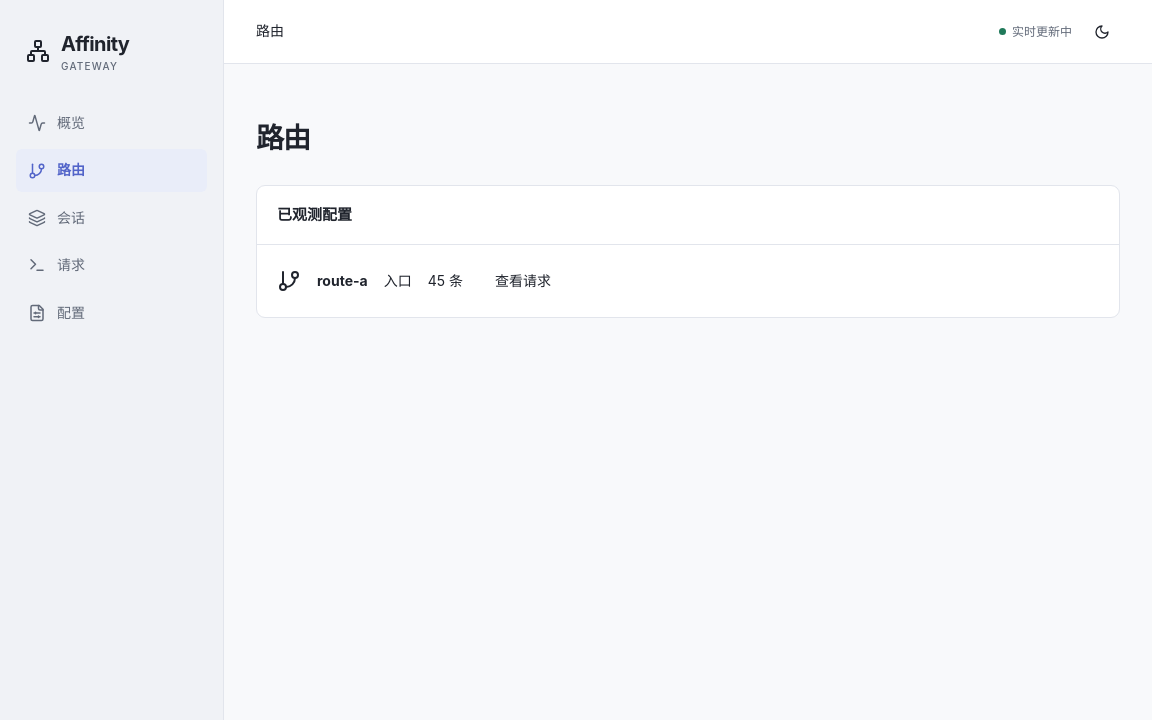
Test: supports direct page selection and changing page size in the request dialog
The image size is (1152, 720).
Click the button "查看请求" at (523, 281), box [479, 263, 567, 299]
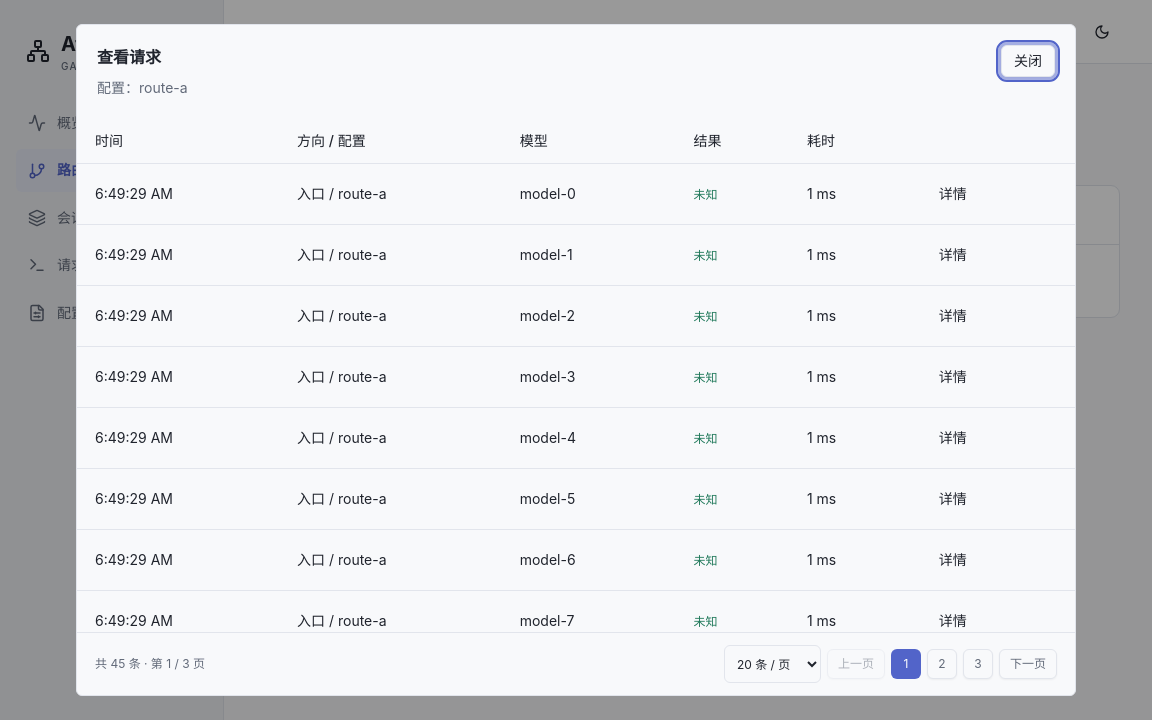
Click the button named "第 3 页" at (978, 664), box [963, 649, 993, 679]
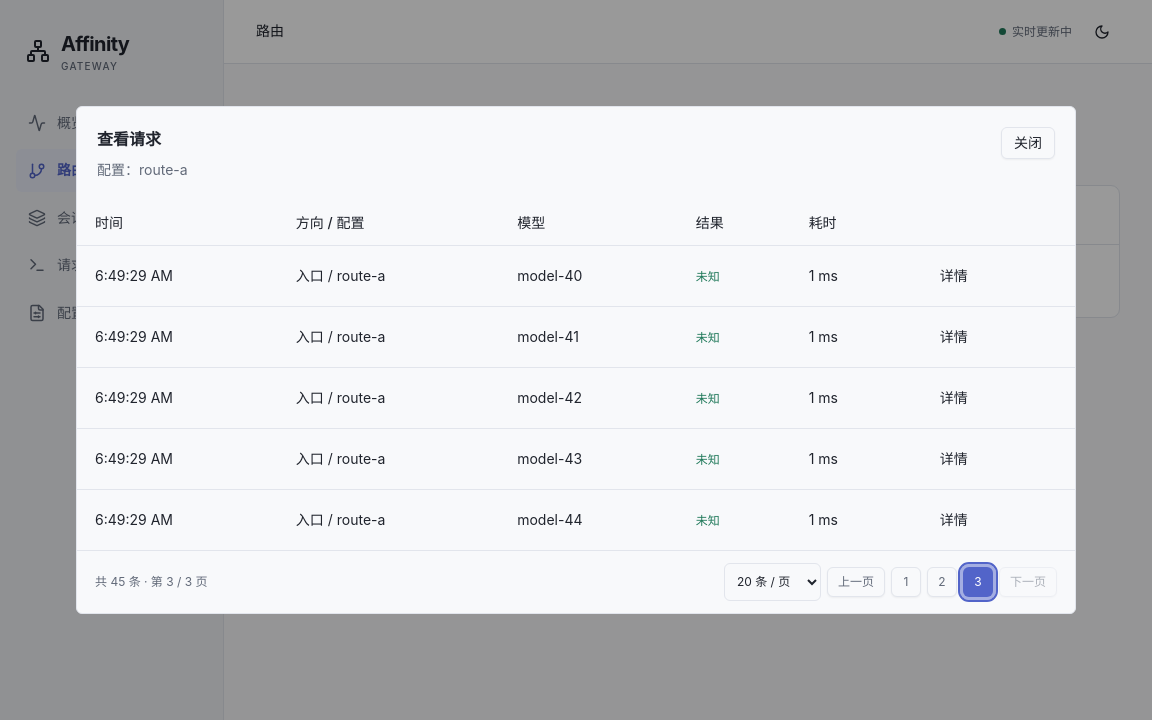
Now the text "model-40" is shown, box [499, 246, 678, 306]
Now the button "下一页" is disabled, box [999, 567, 1057, 597]
Select "50 条 / 页" in the dropdown named "每页条数" at (772, 582), box [724, 563, 821, 601]
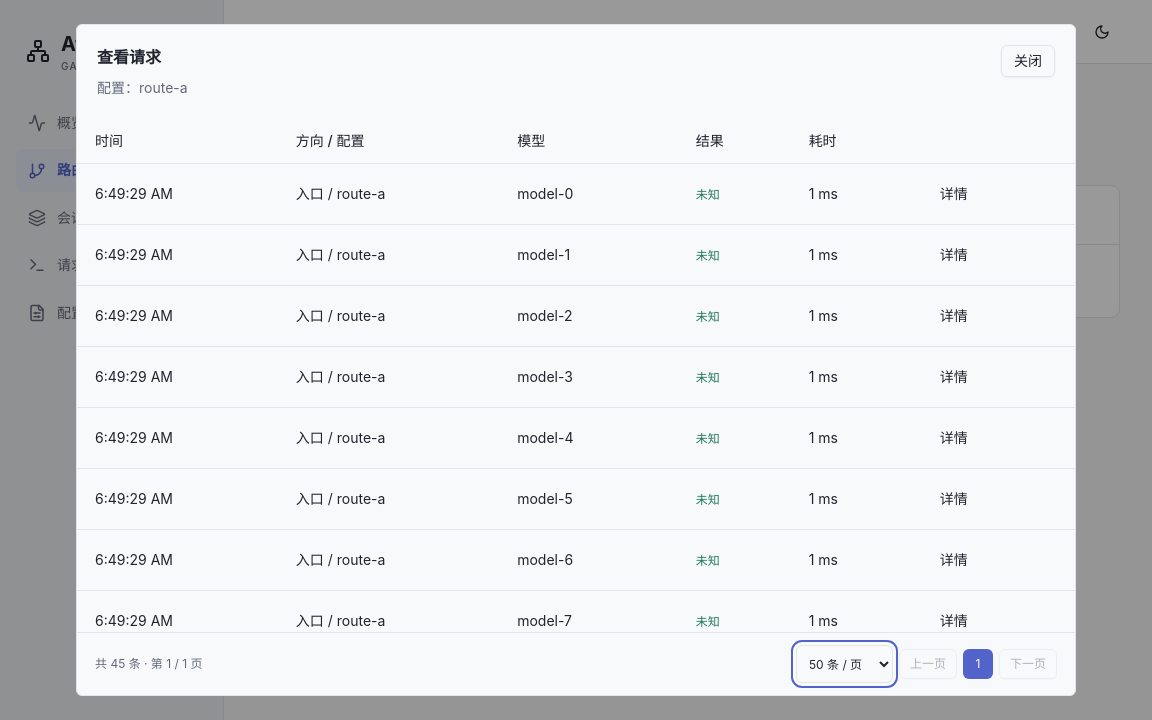
Now the text "model-0" is shown, box [499, 164, 678, 224]
Now the button "上一页" is disabled, box [899, 649, 957, 679]
